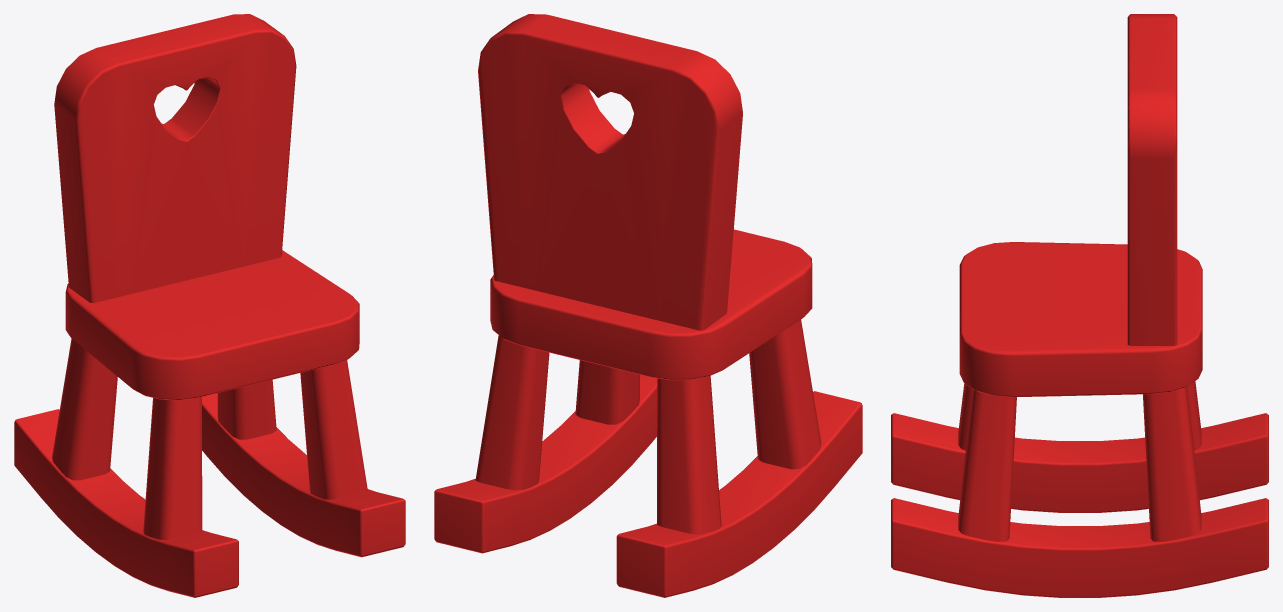
The model's file is Farm_11_Chair_1.glb.
3 views of the same model, side by side, from view 1: azimuth 30°, elevation 25°; view 2: azimuth 150°, elevation 25°; view 3: azimuth 270°, elevation 25° (orthographic). The views are drawn at different scales.
Visible parts, largest first — view 1: Farm_11_Chair_1; view 2: Farm_11_Chair_1; view 3: Farm_11_Chair_1.
Part boxes in pixels (bbox=[...]): Farm_11_Chair_1: bbox=[14, 14, 405, 597]; Farm_11_Chair_1: bbox=[434, 14, 862, 597]; Farm_11_Chair_1: bbox=[891, 14, 1268, 597].
Bounding box in the file's own units: 0.8226 × 1.67 × 1.16.
1 material, 1 textured.
